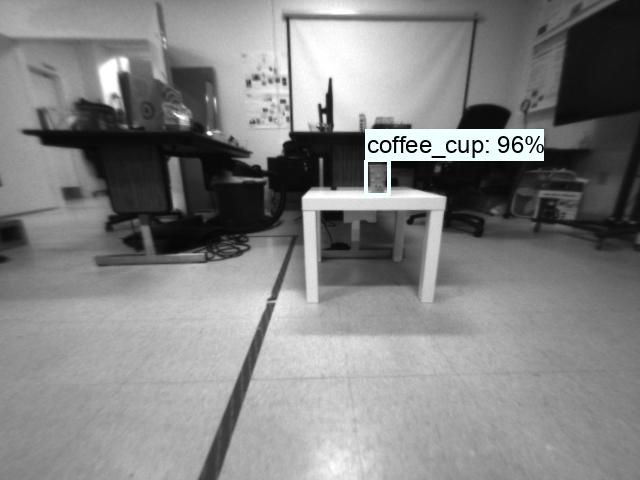coffee_cup: (366, 162, 389, 195)
